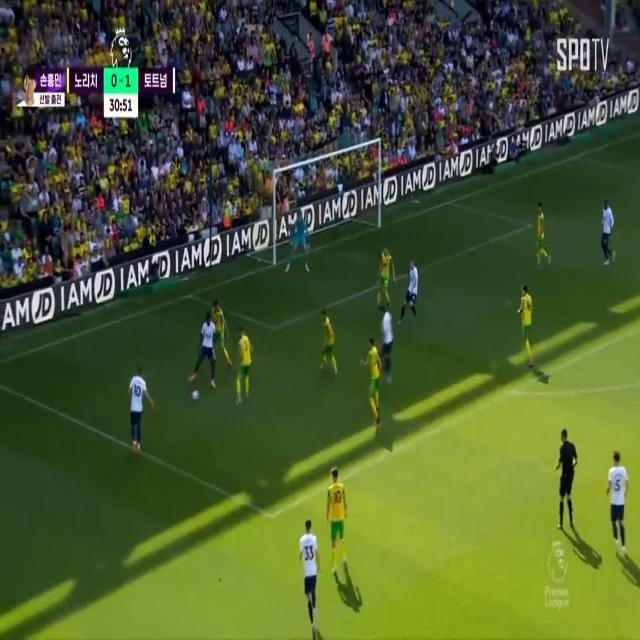ball: (192, 381, 202, 411)
goalkeeper: (279, 195, 317, 281)
player: (322, 460, 352, 569), (606, 451, 630, 553), (299, 512, 319, 623), (373, 238, 395, 323), (196, 312, 219, 385), (364, 337, 385, 416), (235, 323, 256, 401), (129, 360, 148, 445), (317, 305, 337, 385), (533, 198, 551, 272), (597, 202, 619, 262), (519, 281, 535, 361), (405, 258, 419, 325), (382, 299, 393, 376), (213, 299, 224, 359)
referee: (557, 429, 573, 523)
